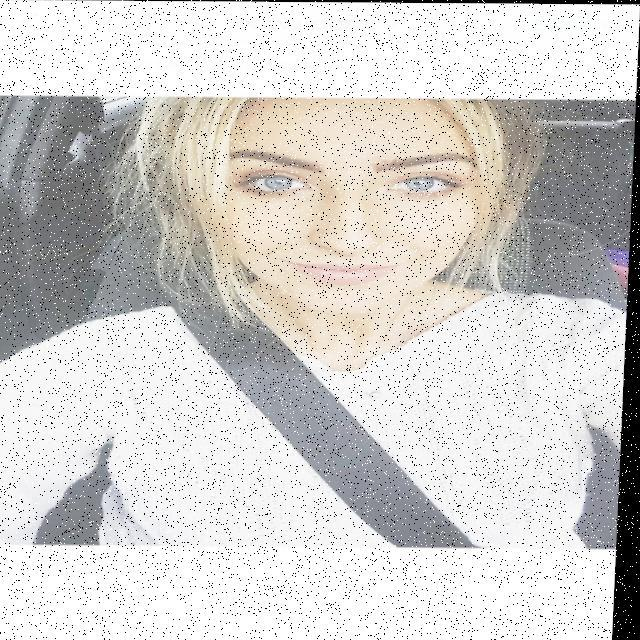seatbelt: (7, 264, 631, 546)
